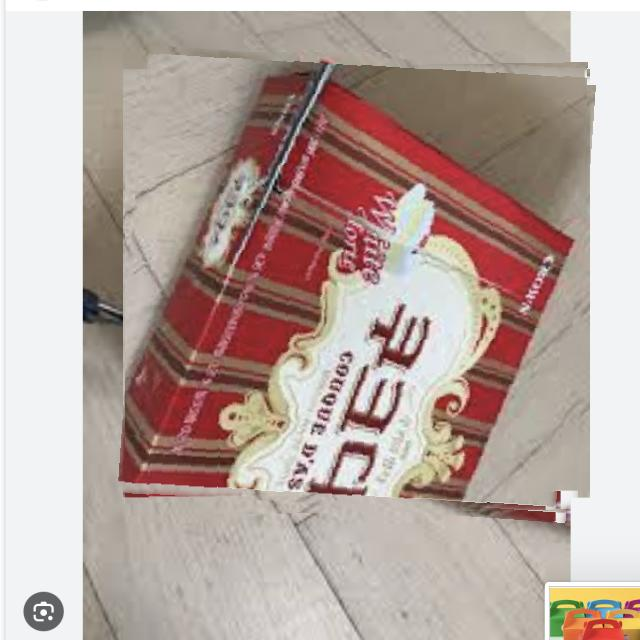biodegradable: (125, 52, 588, 516)
